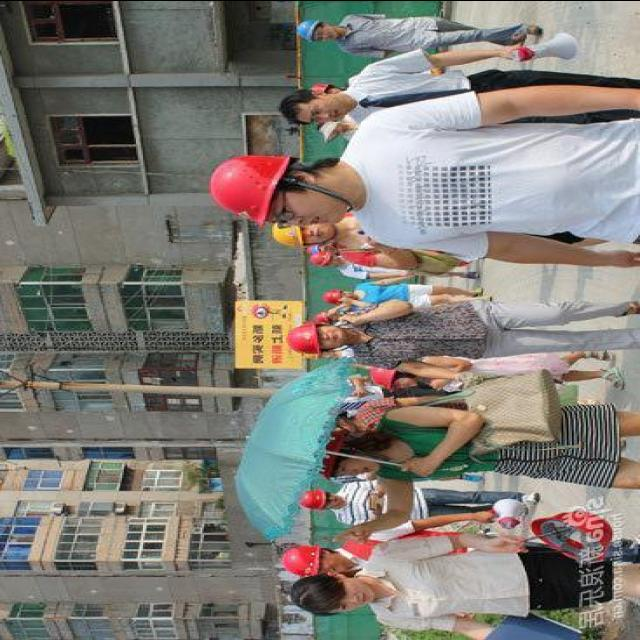helmet: (200, 149, 302, 231), (528, 504, 614, 566), (276, 543, 328, 577), (285, 322, 321, 356), (296, 490, 328, 513), (304, 246, 336, 268), (322, 288, 346, 304)
